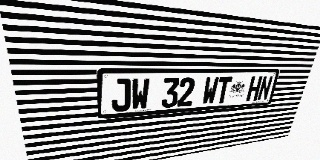2: (177, 77, 195, 107)
3: (161, 77, 180, 108)
H: (246, 76, 263, 101)
J: (111, 78, 131, 112)
N: (257, 76, 273, 101)
T: (215, 77, 233, 104)
W: (131, 78, 150, 110), (201, 77, 219, 105)
